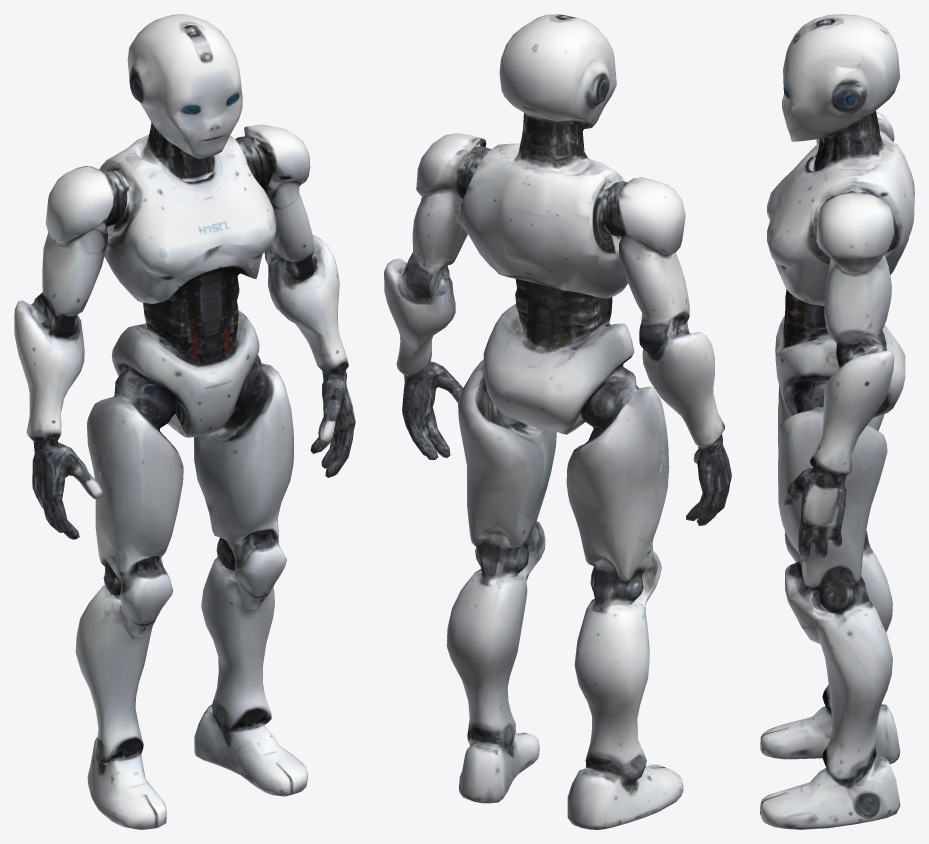
Rendered from humanoid_low.obj.
The picture shows the model from 3 angles, left to right: view 1: azimuth 30°, elevation 25°; view 2: azimuth 150°, elevation 25°; view 3: azimuth 270°, elevation 25°; orthographic projection.
Parts seen in each view (by area): view 1: Low_Game; view 2: Low_Game; view 3: Low_Game.
Boxes of the visible parts, x1,y1,x2,y2 form: Low_Game: (14,14,355,829); Low_Game: (384,14,731,829); Low_Game: (760,14,914,829).
Bounding box in the file's own units: 0.8677 × 2 × 0.3675.
1 material, 1 textured.
